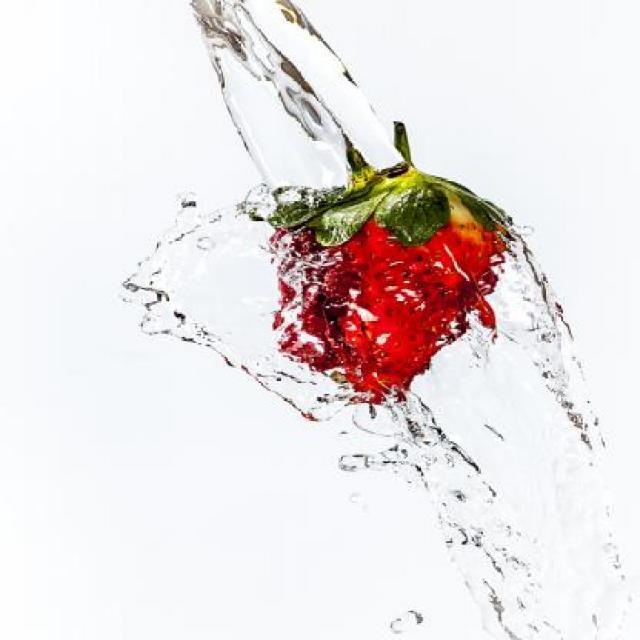Strawberry: (264, 156, 538, 402)
